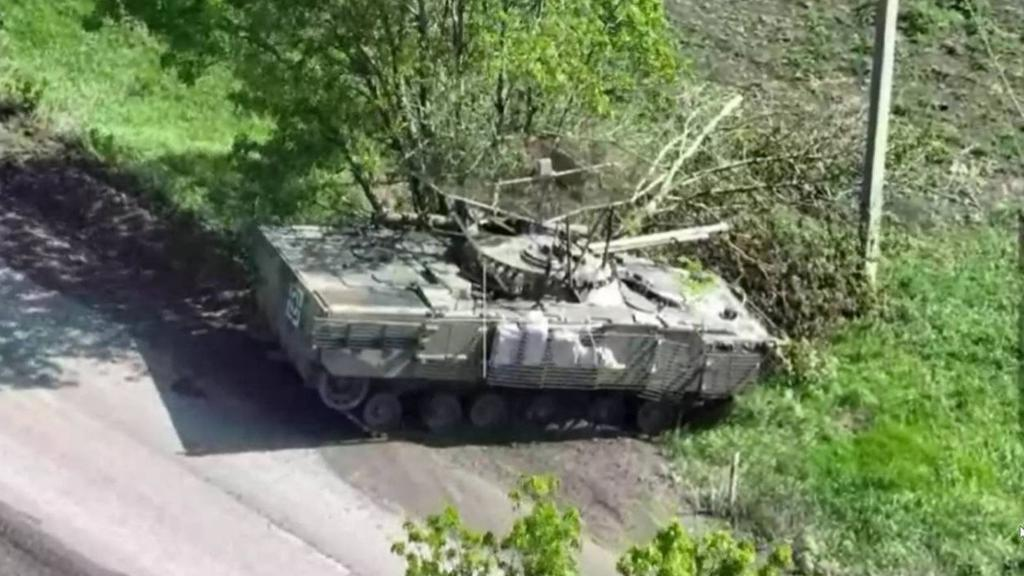APC-IFV: (250, 195, 776, 444)
